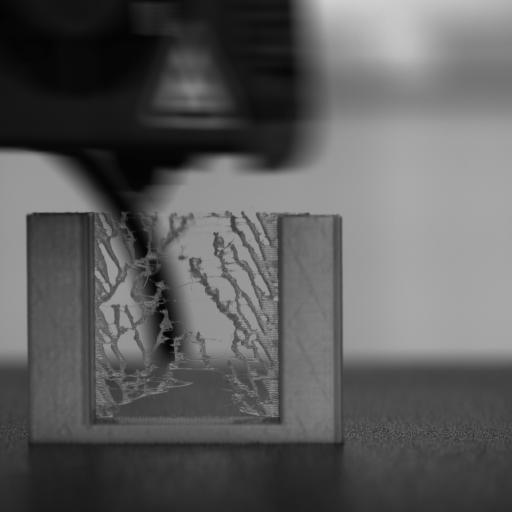spaghetti_and_stringing: (94, 210, 279, 418)
